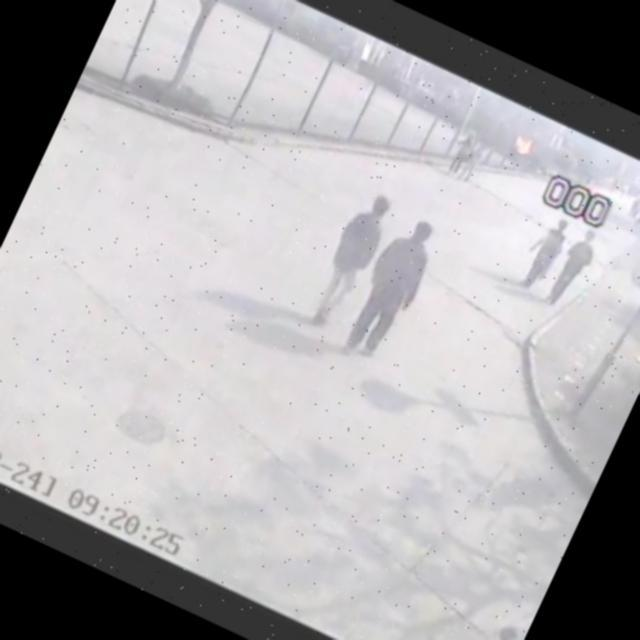person: (331, 205, 454, 371), (299, 180, 406, 338), (538, 221, 610, 318), (512, 208, 580, 298)
